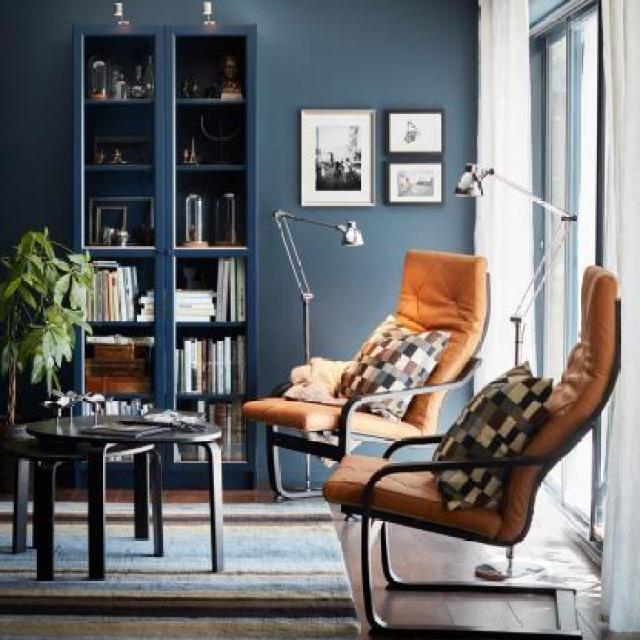tables: (23, 411, 225, 578)
